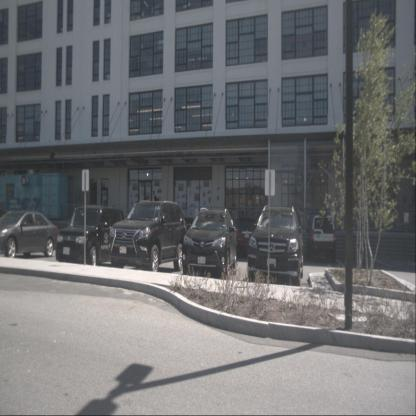vehicle-car: (108, 200, 186, 272), (247, 205, 303, 285), (56, 206, 124, 268), (182, 208, 237, 278), (0, 209, 59, 258), (306, 215, 336, 261), (236, 218, 258, 256)
